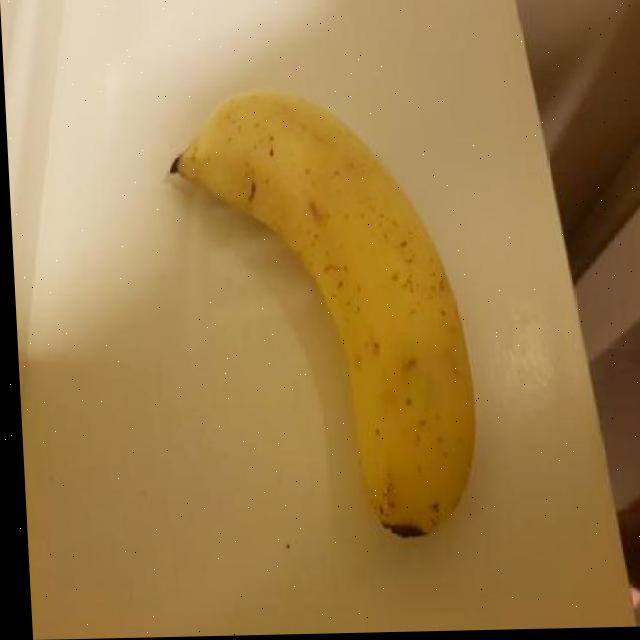banana: (153, 76, 485, 548)
